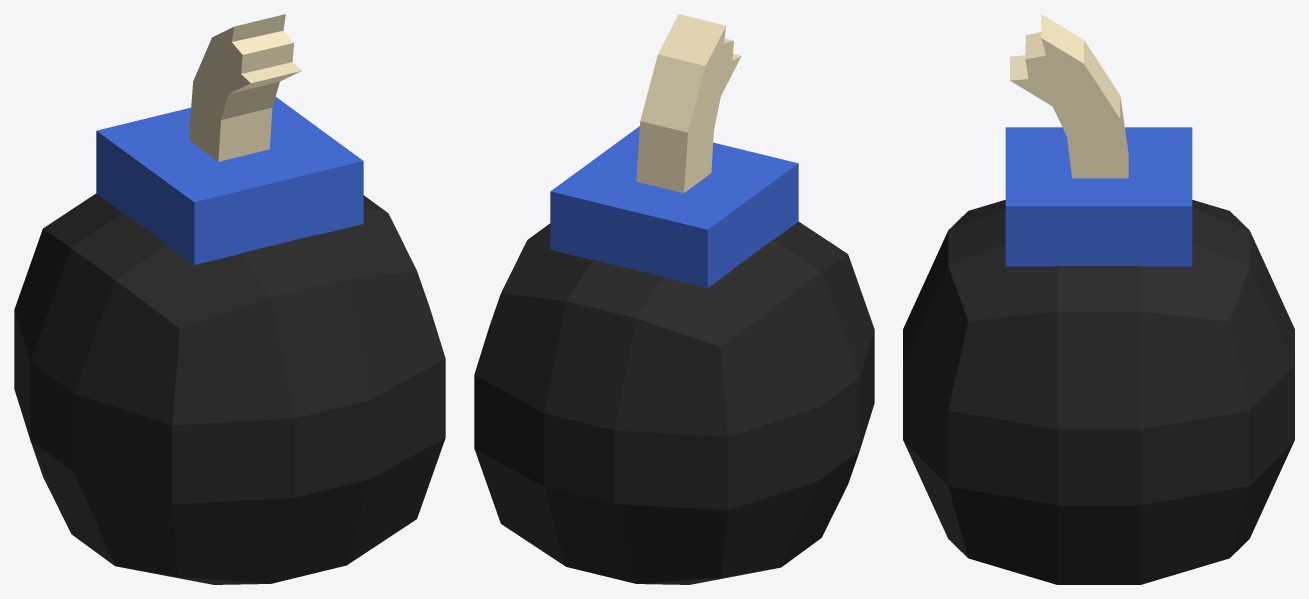
The model's file is Item Bomba.fbx.
3 views of the same model, side by side, from view 1: azimuth 30°, elevation 25°; view 2: azimuth 150°, elevation 25°; view 3: azimuth 270°, elevation 25° (orthographic). The views are drawn at different scales.
Visible parts, largest first — view 1: Bomba; view 2: Bomba; view 3: Bomba.
Part boxes in pixels (<box>): Bomba: <box>14,14,445,584</box>; Bomba: <box>474,14,874,584</box>; Bomba: <box>903,14,1294,584</box>.
Size of the model in its own units: 200 by 302 by 200.
